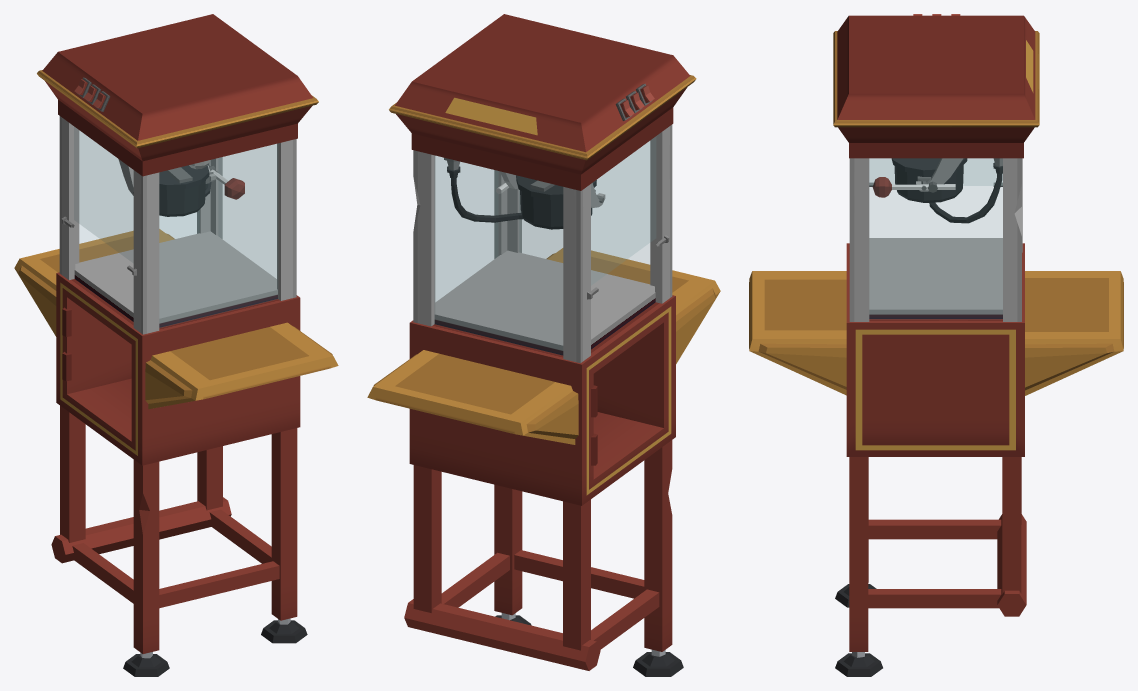
The model's file is SM_Veh_Popcorn_Cart_01.obj.
The picture shows the model from 3 angles, left to right: view 1: azimuth 30°, elevation 25°; view 2: azimuth 150°, elevation 25°; view 3: azimuth 270°, elevation 25°; orthographic projection. The views are drawn at different scales.
Visible parts, largest first — view 1: SM_Veh_Popcorn_Cart_01_0, SM_Veh_Popcorn_Cart_01_1; view 2: SM_Veh_Popcorn_Cart_01_0, SM_Veh_Popcorn_Cart_01_1; view 3: SM_Veh_Popcorn_Cart_01_0, SM_Veh_Popcorn_Cart_01_1.
Boxes of the visible parts, left/top/right/bottom form: SM_Veh_Popcorn_Cart_01_0: left=14, top=14, right=338, bottom=676; SM_Veh_Popcorn_Cart_01_1: left=74, top=127, right=277, bottom=327; SM_Veh_Popcorn_Cart_01_0: left=367, top=14, right=720, bottom=676; SM_Veh_Popcorn_Cart_01_1: left=435, top=137, right=655, bottom=354; SM_Veh_Popcorn_Cart_01_0: left=749, top=14, right=1123, bottom=676; SM_Veh_Popcorn_Cart_01_1: left=869, top=158, right=1002, bottom=318.
Bounding box in the file's own units: 0.6536 × 1.91 × 1.12.
2 materials, 1 textured.
